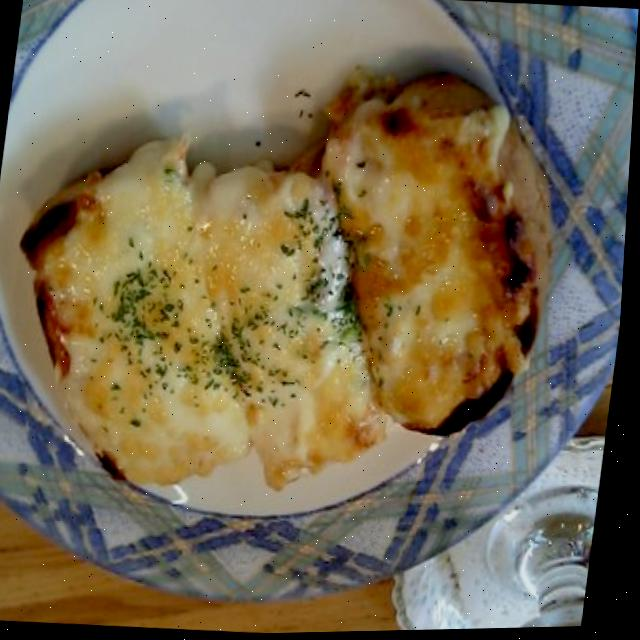面包点心: (0, 21, 581, 532)
